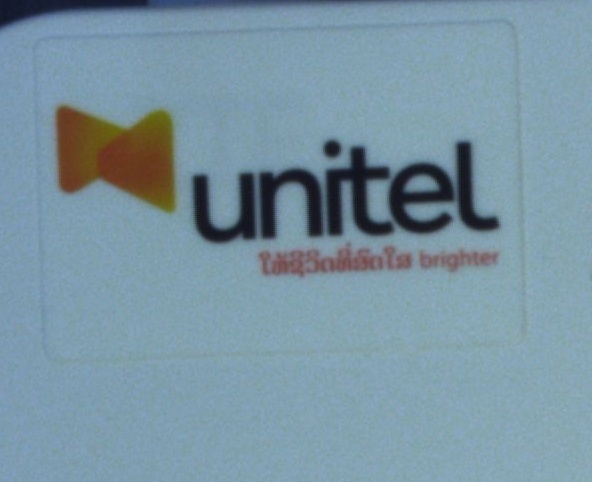BT_unitel: (55, 104, 506, 273)
